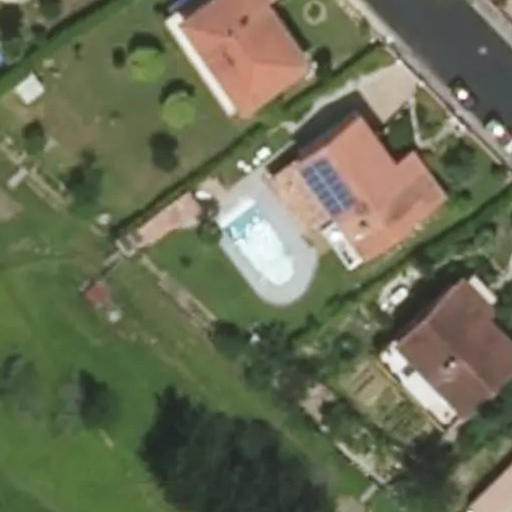pool: (218, 223, 302, 269)
